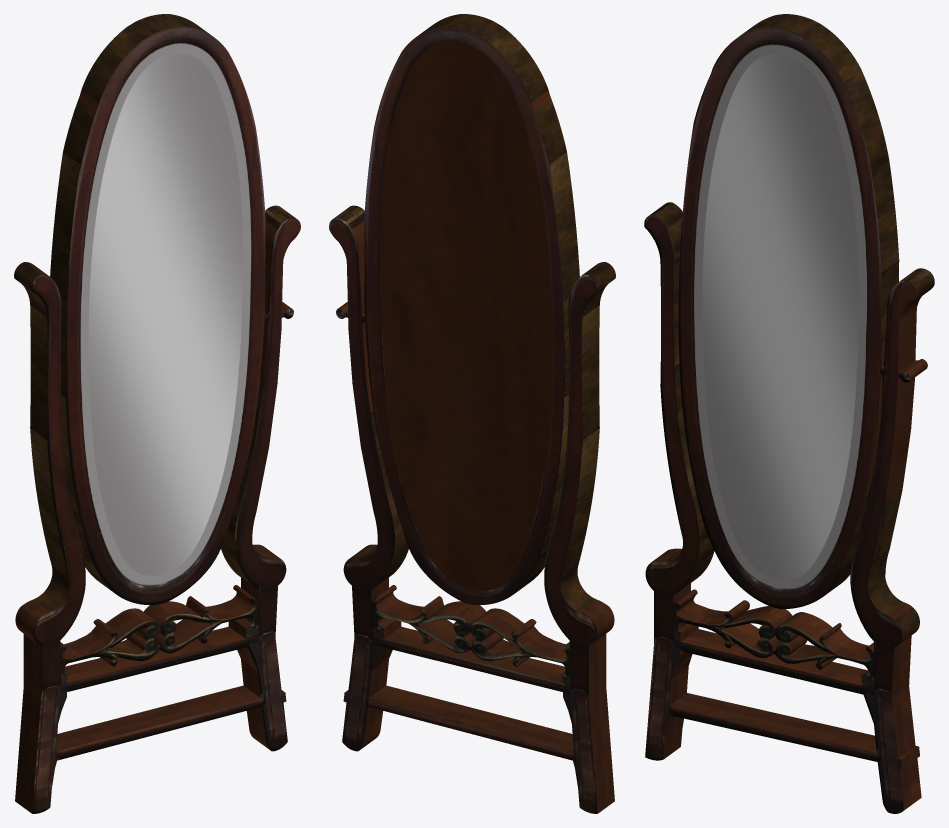
The model's file is victorian_full_length_mirror.glb.
3 views of the same model, side by side, from view 1: azimuth 30°, elevation 25°; view 2: azimuth 150°, elevation 25°; view 3: azimuth 330°, elevation 25° (orthographic).
Parts seen in each view (by area): view 1: Material3 (×2), Material2; view 2: Material2 (×2), Material3; view 3: Material3 (×2), Material2.
Part boxes in pixels (x1,y1,x2,y2): Material3 (×2): [14, 14, 300, 813]; Material2: [15, 90, 291, 813]; Material2 (×2): [329, 26, 614, 813]; Material3: [334, 14, 615, 611]; Material3 (×2): [644, 14, 934, 813]; Material2: [651, 251, 933, 810].
Bounding box in the file's own units: 28.73 × 76.71 × 3.19.
4 materials, 4 textured.
